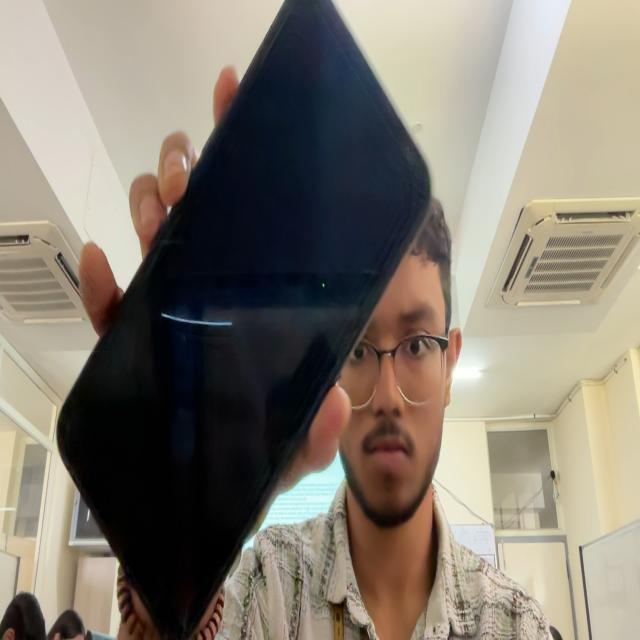Useful: (57, 0, 430, 639)
